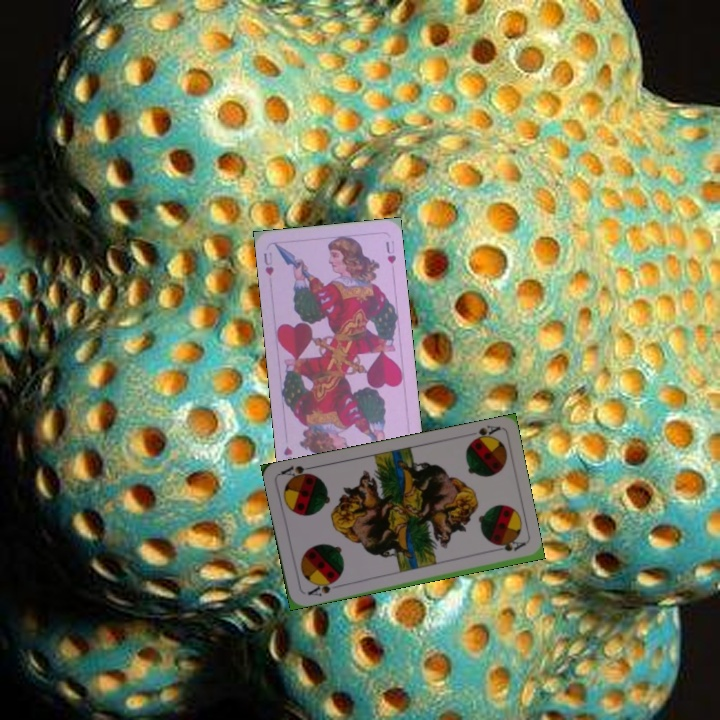HU: (259, 248, 276, 278)
SA: (465, 421, 502, 446), (304, 576, 340, 599)
